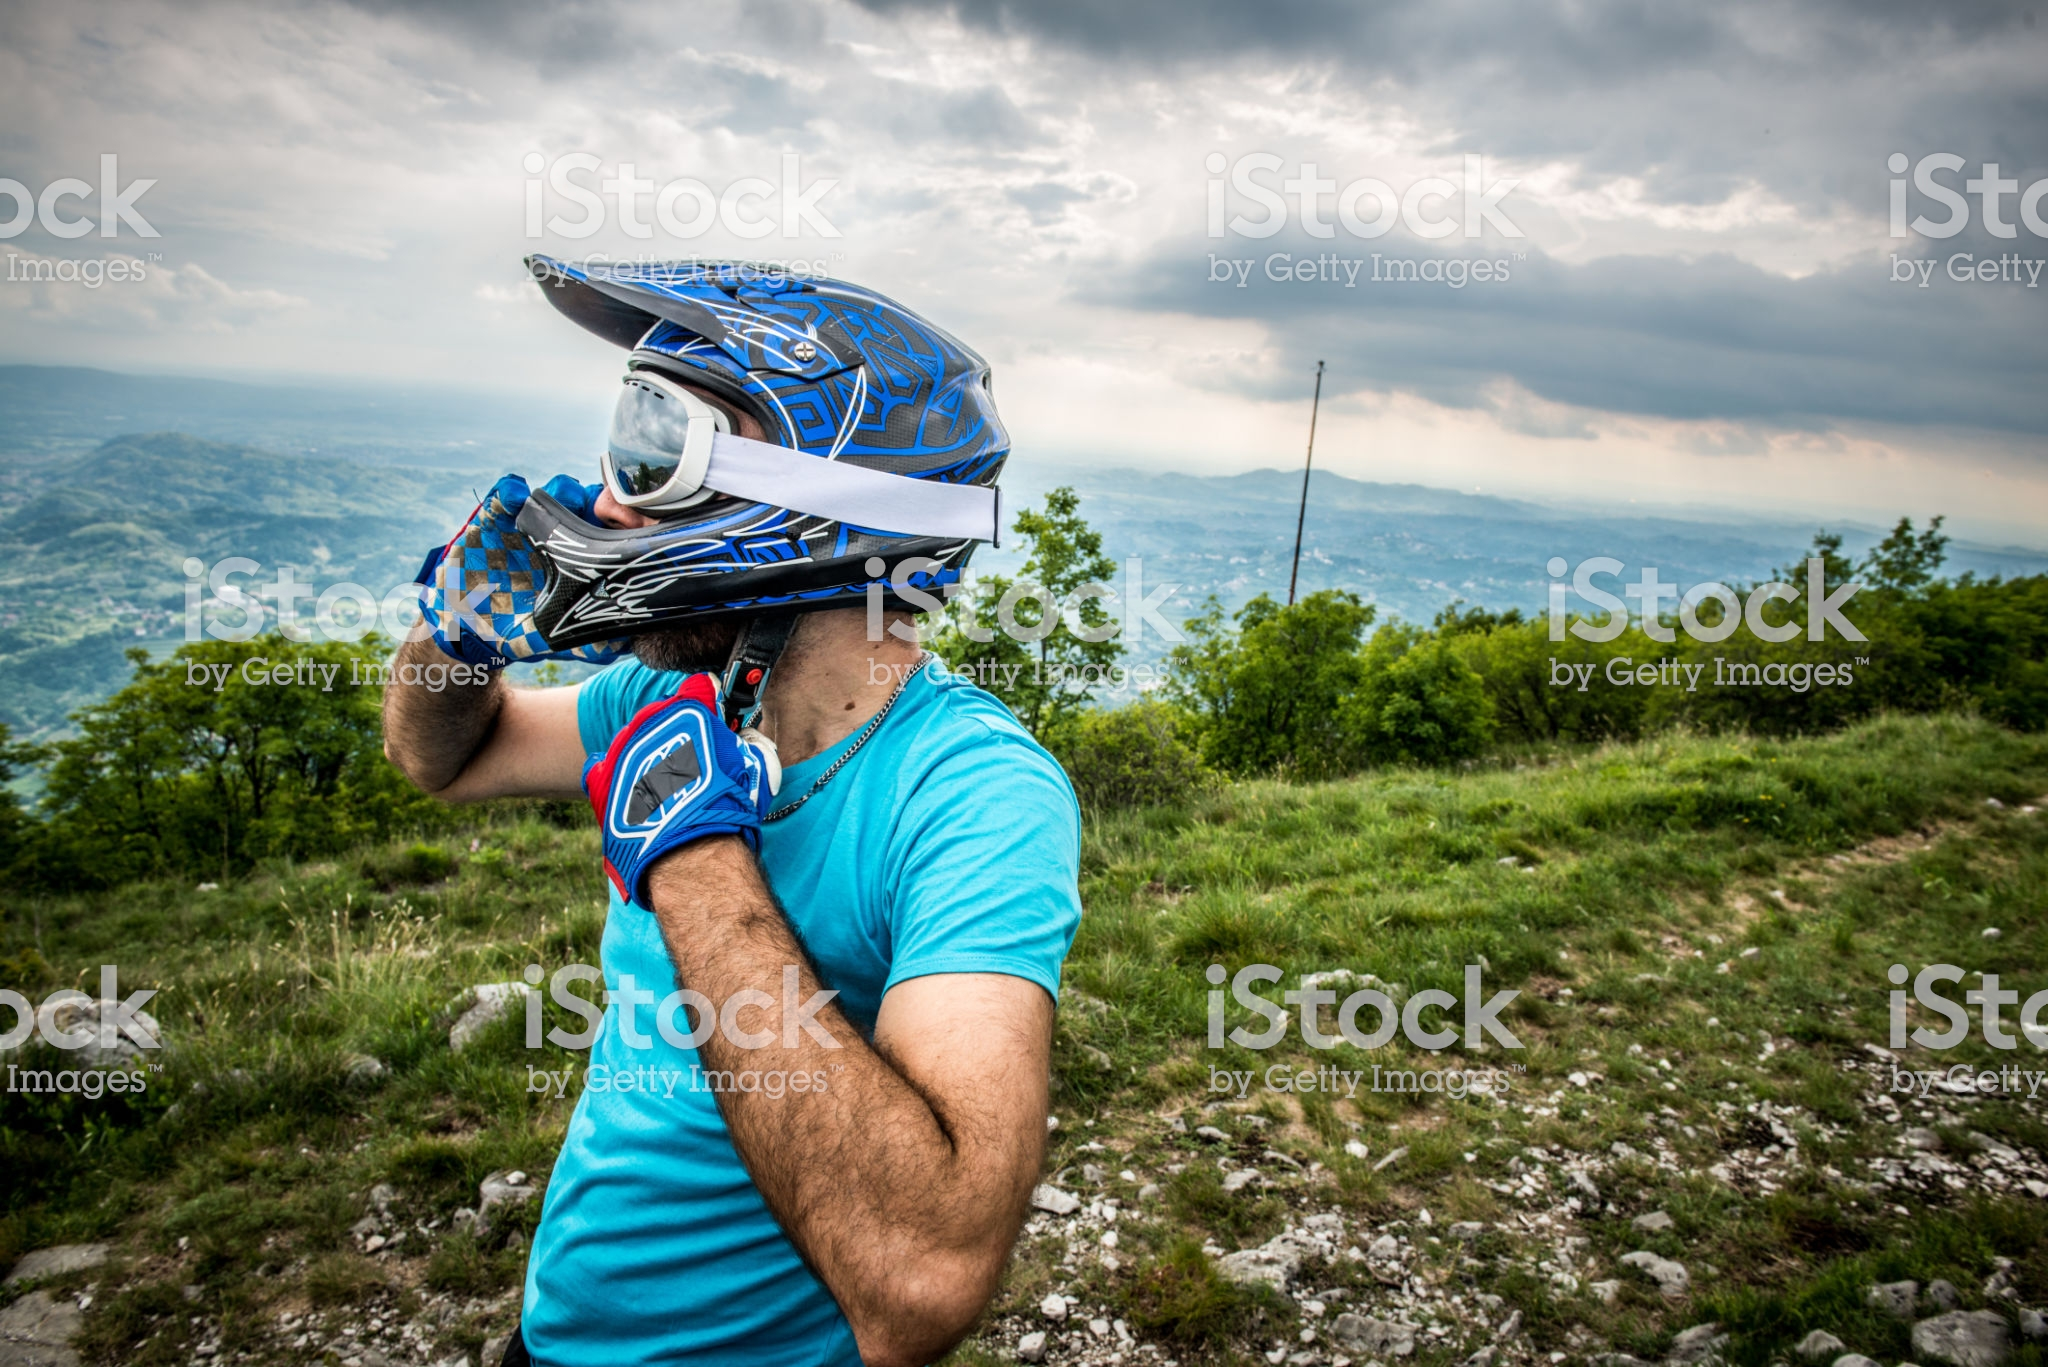helmet: (464, 220, 1075, 655)
